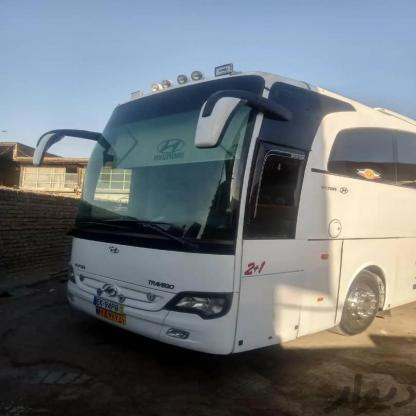Bus: (56, 66, 416, 346)
